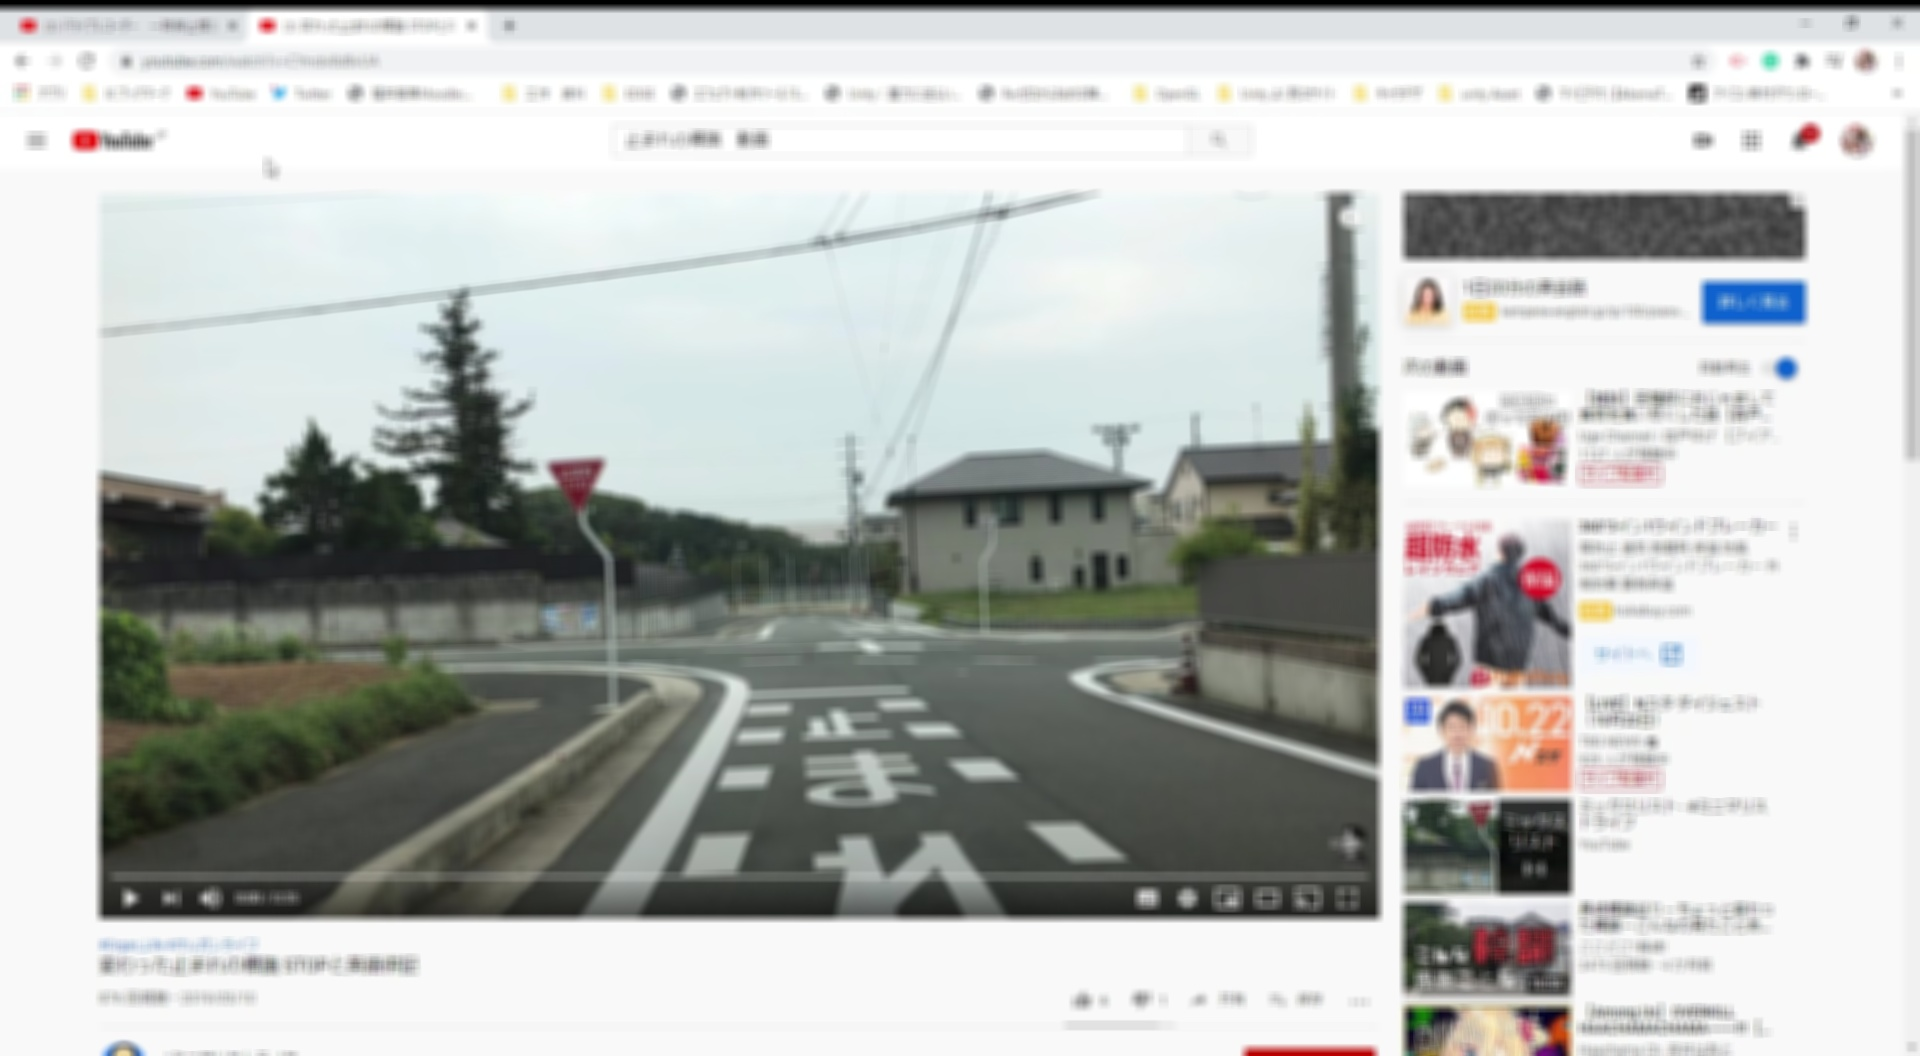Regulatory_sign_triangle: (543, 447, 612, 508)
